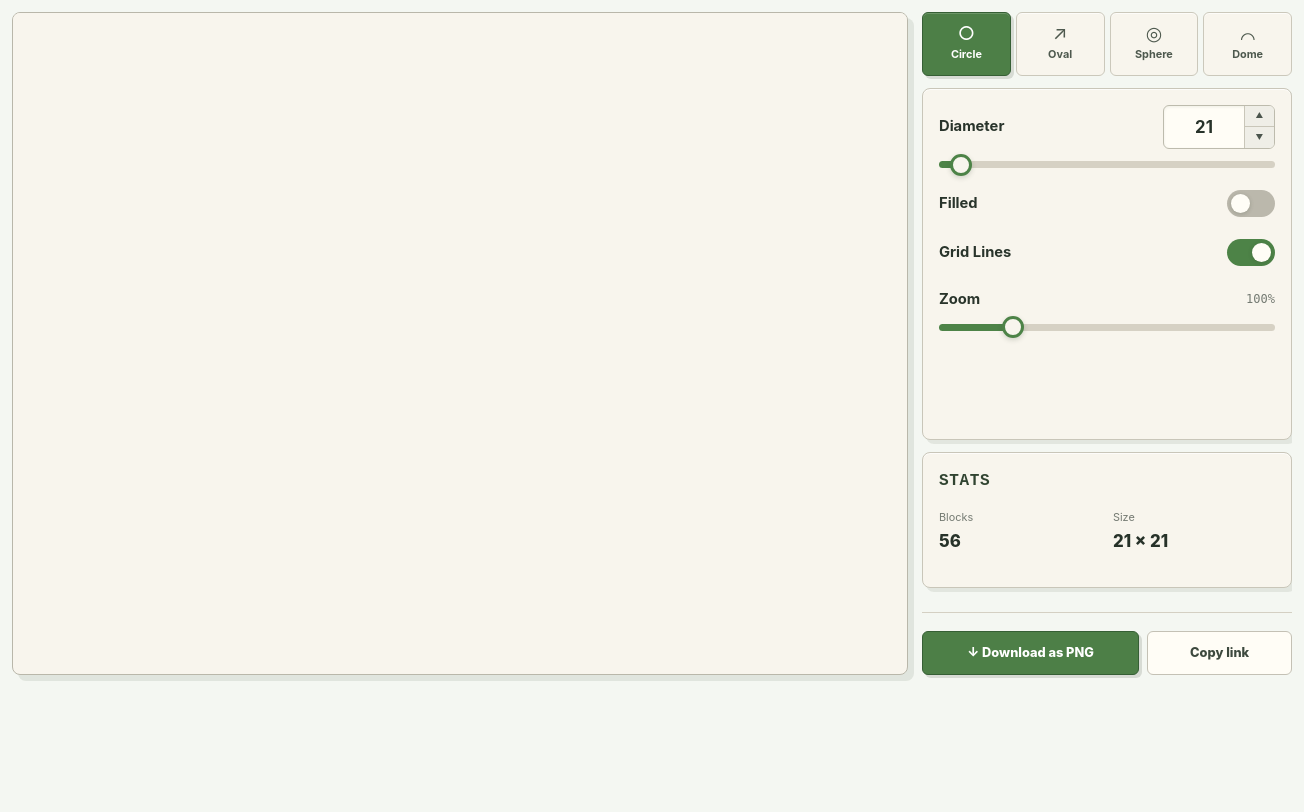
it: generator URL boundaries › uses the oval's independent width and height when switching from a circle
Step 1. Click the button "↗ Oval" → (1060, 44), box [1016, 12, 1105, 76]
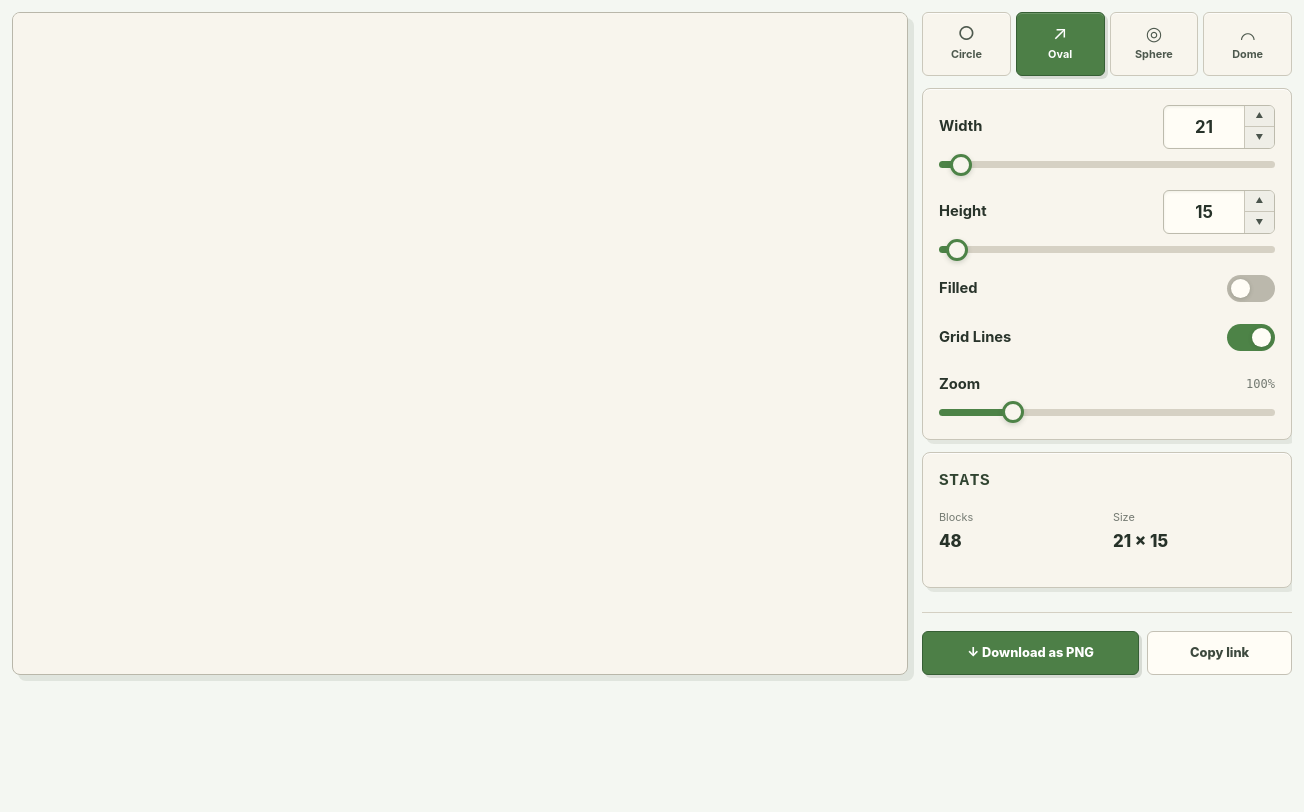
Expected: the number field labelled "Width" holds "21", [1164, 106, 1244, 148]
Expected: the number field labelled "Height" holds "15", [1164, 191, 1244, 233]
